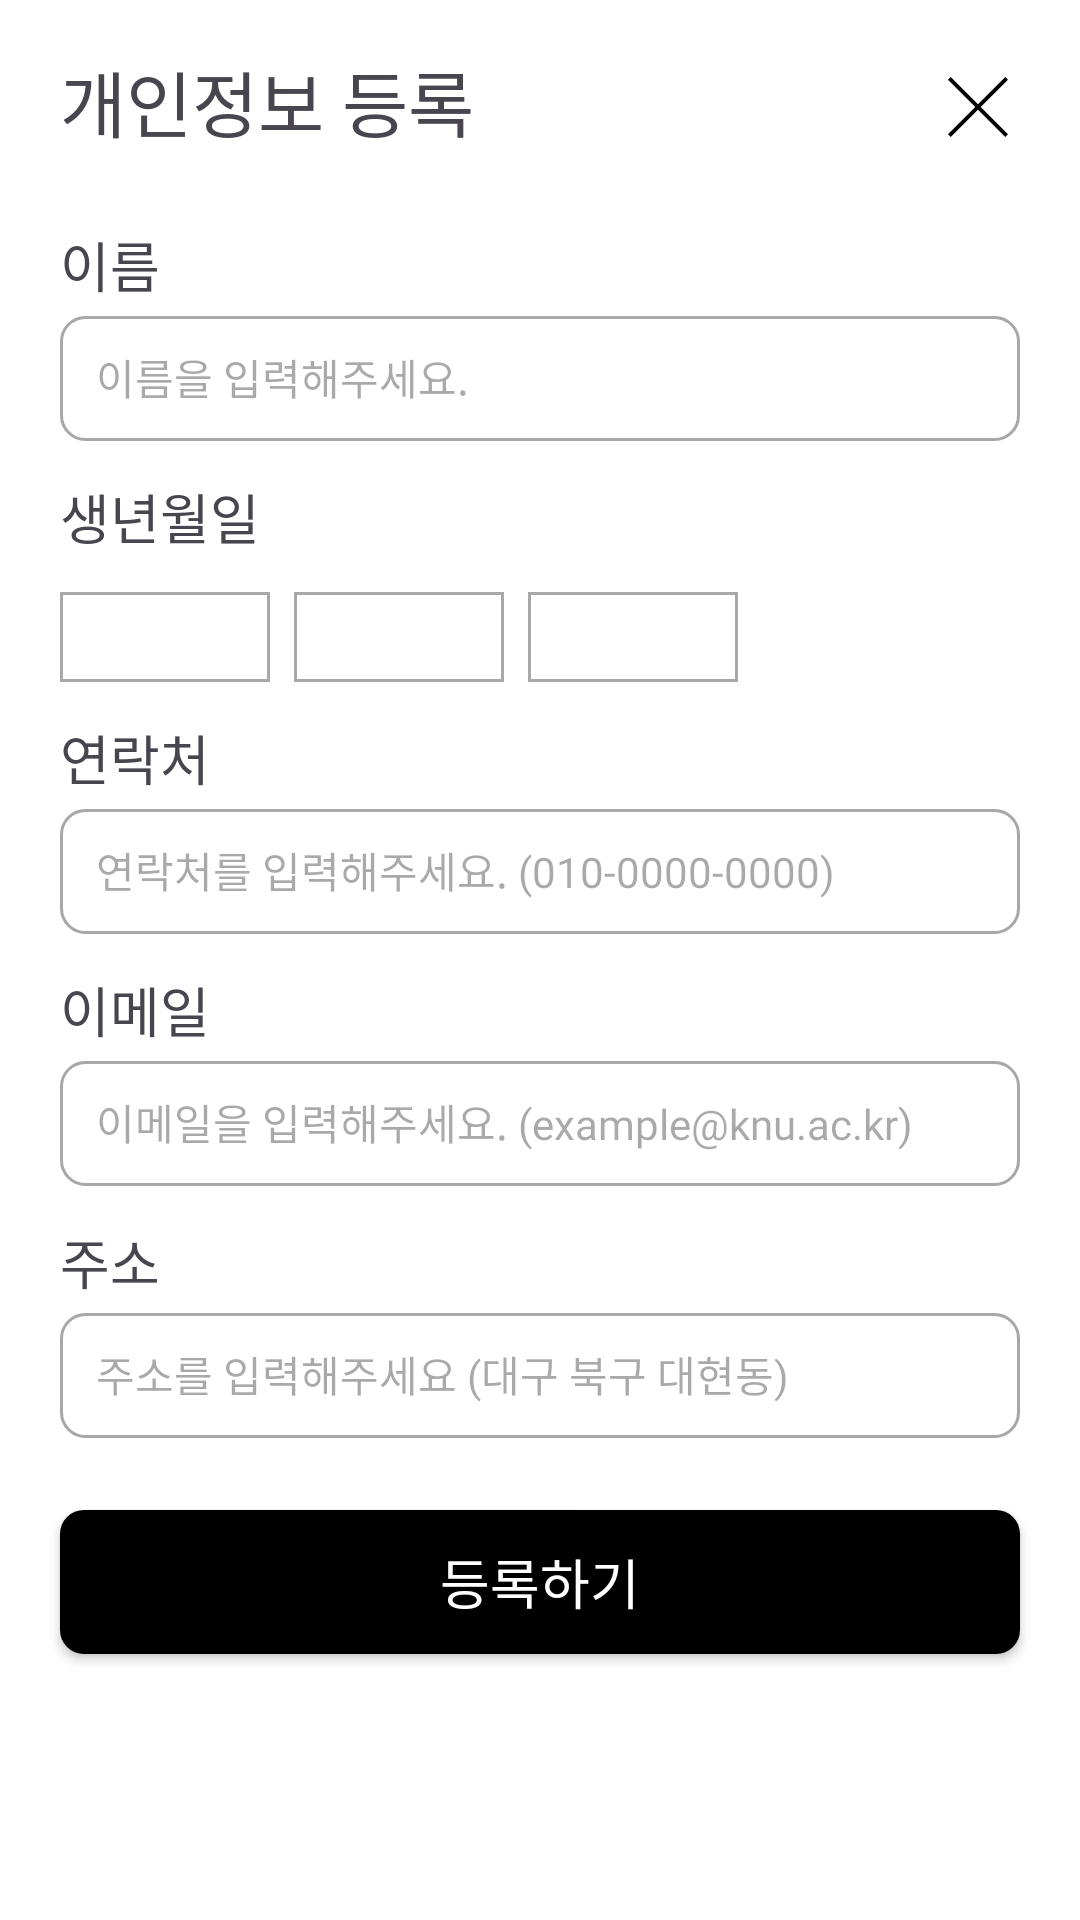

Named icons in this screenshot (1080×1920) and their centers, point (x, y):
sign back: point (978, 107)
